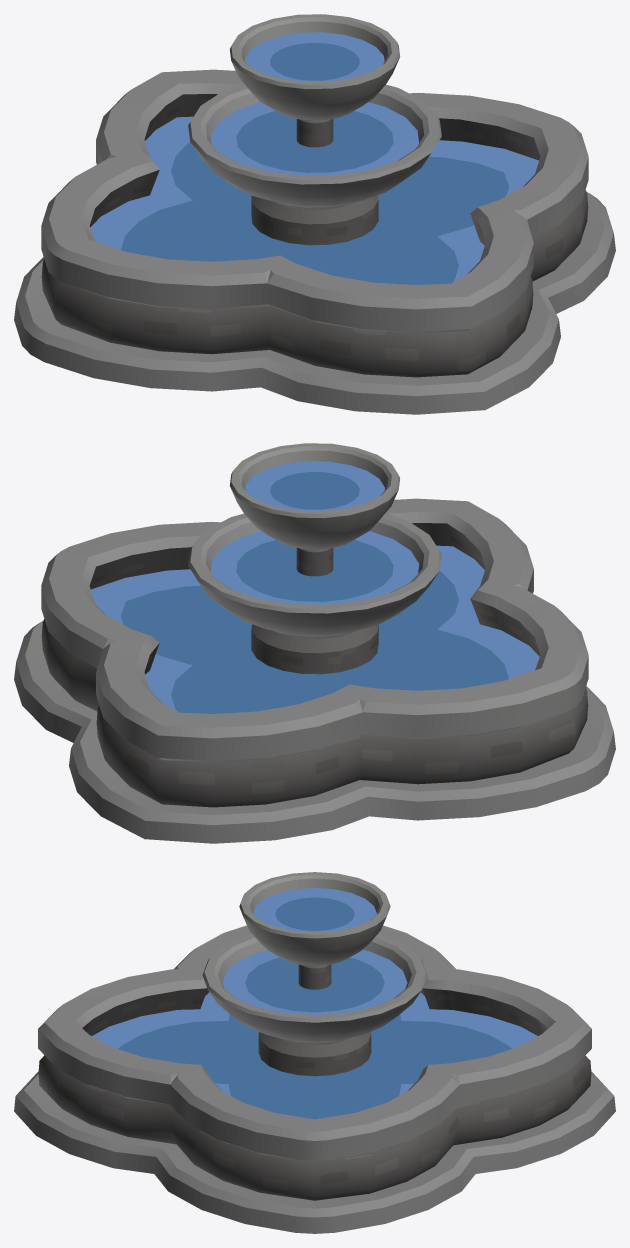
Rendered from Fountain_1_1.fbx.
3 renders of one model, top to bottom at view 1: azimuth 30°, elevation 25°; view 2: azimuth 150°, elevation 25°; view 3: azimuth 270°, elevation 25°, orthographic. The views are drawn at different scales.
Parts seen in each view (by area): view 1: Fountain_1_1; view 2: Fountain_1_1; view 3: Fountain_1_1.
Boxes of the visible parts, x1,y1,x2,y2 form: Fountain_1_1: (14, 14, 615, 414); Fountain_1_1: (14, 443, 615, 843); Fountain_1_1: (14, 872, 615, 1233).
Size of the model in its own units: 381 by 151 by 396.
